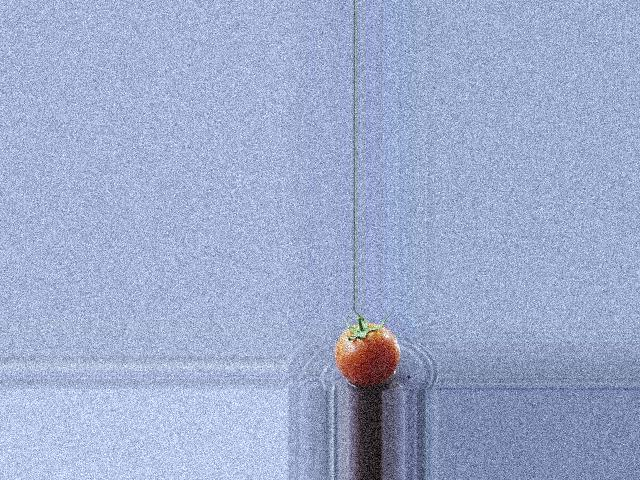tomato: (335, 324, 399, 387)
